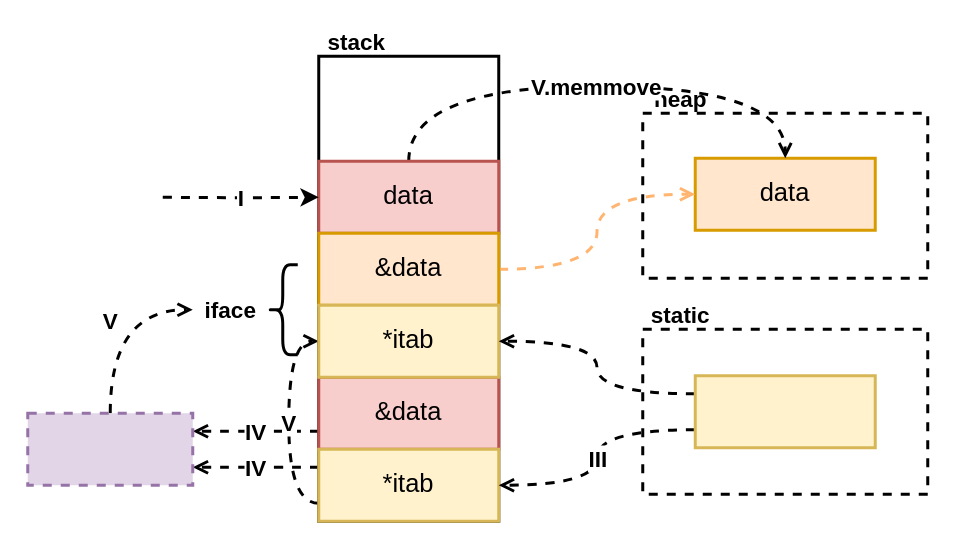
This 954x548 diagram has some shape labels left out. Each missing label, with the centre of its shape:
convT2I: pixel 110 448
itab: pixel 784 411
